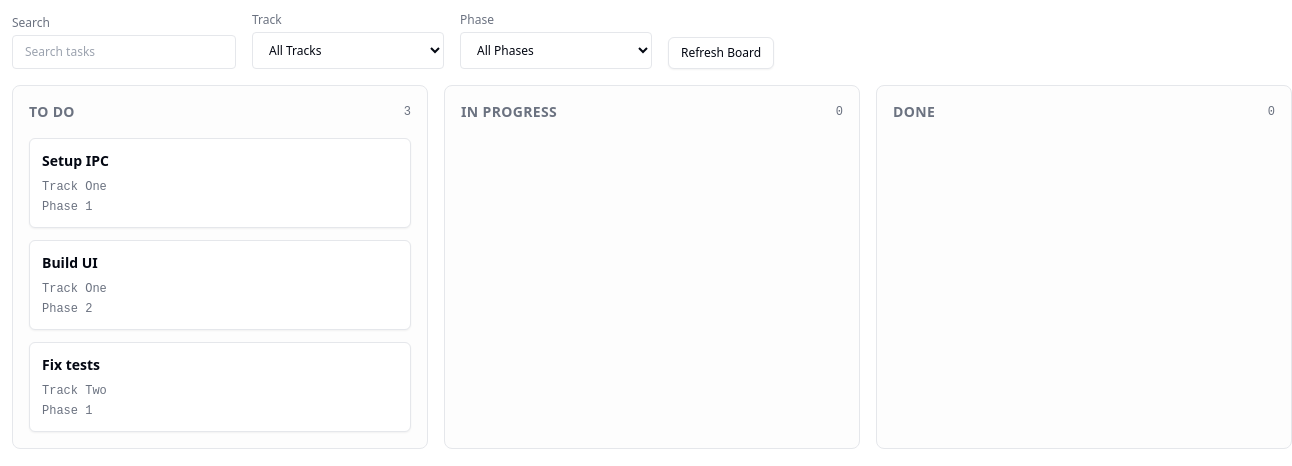
Scenario: BoardPanel › filters tasks by search query
Type "Build" into the field labelled "Search" at coordinates (124, 52), box 12,35 -> 236,69
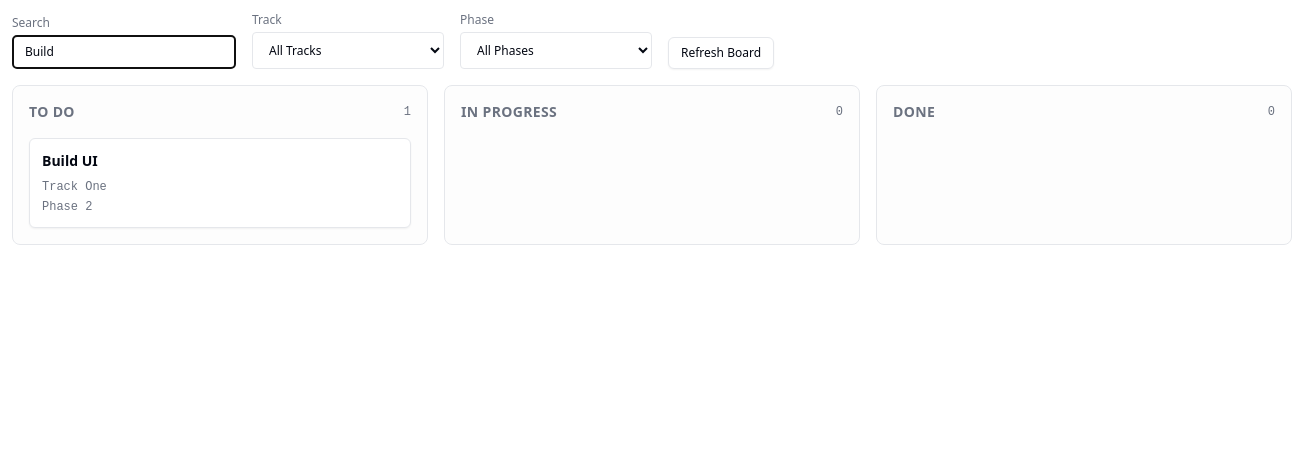
Expected: the heading "Build UI" is shown, 42,151 -> 98,170
Now the heading "Setup IPC" is gone
Now the heading "Fix tests" is gone
